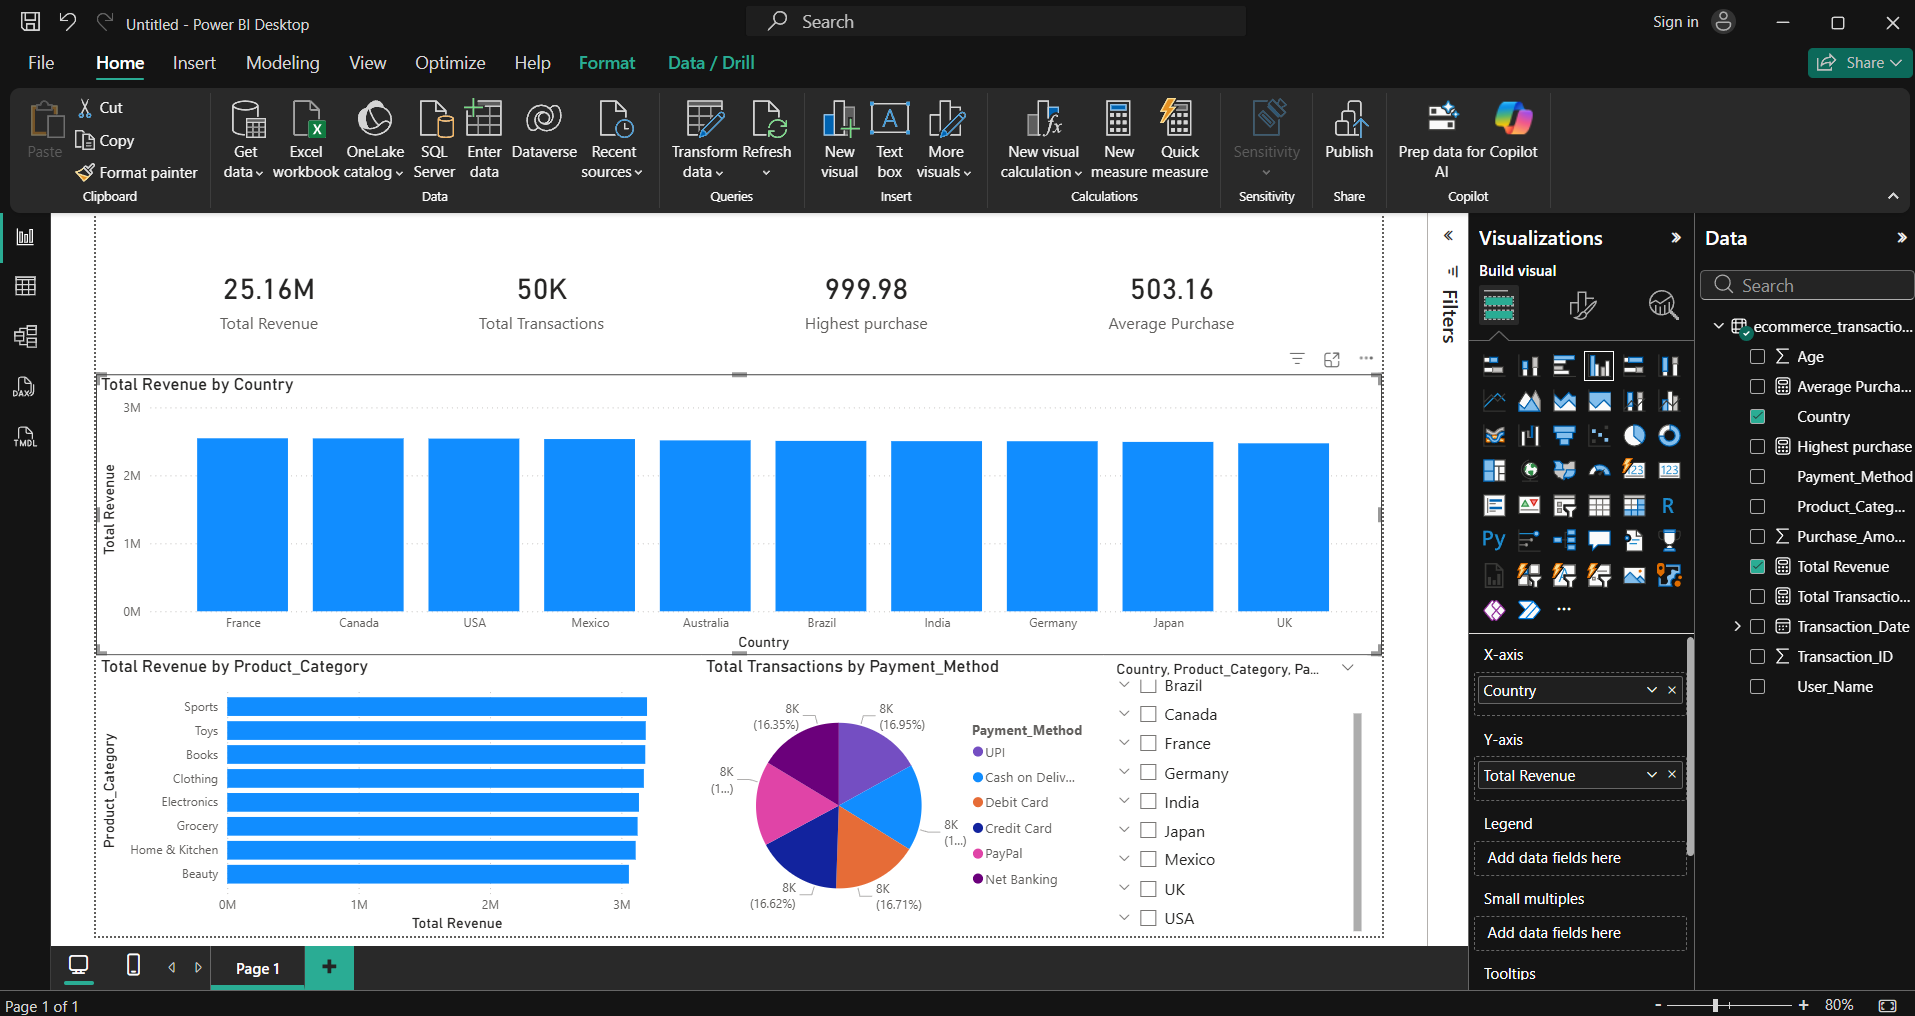

This screenshot's page, from the dashboard's own definition file:
{"tool":"powerbi","page":{"name":"Page 1","canvas":[1280,720],"ordinal":0},"visuals":[{"type":"card","fields":{"Values":["ecommerce_transactions.Total Revenue"]},"box":[33.6,75.9,271.2,140.6],"z":0},{"type":"card","fields":{"Values":["ecommerce_transactions.Total Transactions"]},"box":[304.8,75.9,273.7,139.3],"z":1000},{"type":"card","fields":{"Values":["ecommerce_transactions.Average Purchase"]},"box":[864.6,75.9,279.9,140.6],"z":2000},{"type":"card","fields":{"Values":["ecommerce_transactions.Highest purchase"]},"box":[578.4,77.1,286.1,139.3],"z":3000},{"type":"clusteredColumnChart","fields":{"Y":["ecommerce_transactions.Total Revenue"],"Category":["ecommerce_transactions.Country"]},"box":[0,215.2,1280,247.5],"z":4000},{"type":"clusteredBarChart","fields":{"Category":["ecommerce_transactions.Product_Category"],"Y":["ecommerce_transactions.Total Revenue"]},"box":[0,472.7,480.2,247.5],"z":5000},{"type":"pieChart","fields":{"Category":["ecommerce_transactions.Payment_Method"],"Y":["ecommerce_transactions.Total Transactions"]},"box":[459,472.7,521.2,247.5],"z":6000},{"type":"slicer","fields":{"Values":["ecommerce_transactions.Country","ecommerce_transactions.Product_Category","ecommerce_transactions.Payment_Method"]},"box":[980.2,440.4,284.9,279.9],"z":7000},{"type":"textbox","box":[380.7,0,521.2,85.8],"z":8000}]}

Visuals, with their boxes on the page's 1280x720 design canvas (x1, y1, x2, y2). These are canvas units, not pixel positions in the 1915x1016 screenshot, which may show the page scaled, cropped or inside an application window:
card - ecommerce_transactions.Total Revenue: 34, 76, 305, 216
card - ecommerce_transactions.Total Transactions: 305, 76, 578, 215
card - ecommerce_transactions.Average Purchase: 865, 76, 1144, 216
card - ecommerce_transactions.Highest purchase: 578, 77, 864, 216
clusteredColumnChart - ecommerce_transactions.Total Revenue x ecommerce_transactions.Country: 0, 215, 1280, 463
clusteredBarChart - ecommerce_transactions.Product_Category x ecommerce_transactions.Total Revenue: 0, 473, 480, 720
pieChart - ecommerce_transactions.Payment_Method x ecommerce_transactions.Total Transactions: 459, 473, 980, 720
slicer - ecommerce_transactions.Country x ecommerce_transactions.Product_Category: 980, 440, 1265, 720
textbox: 381, 0, 902, 86
